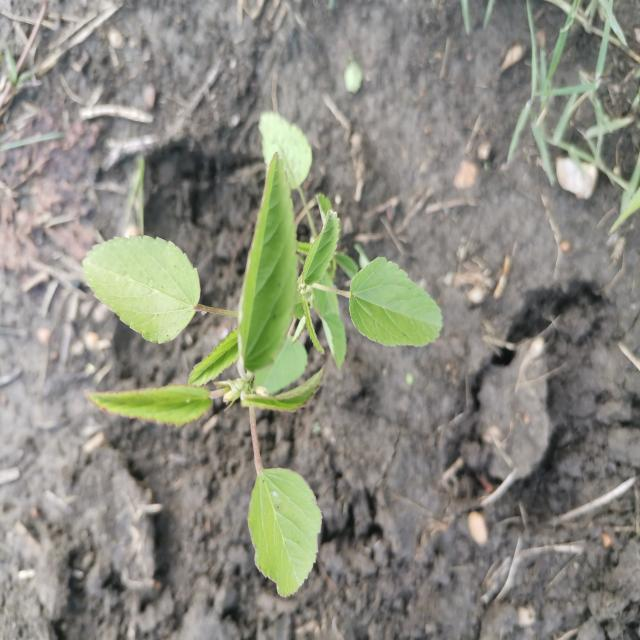PricklySida: (76, 108, 445, 598)
